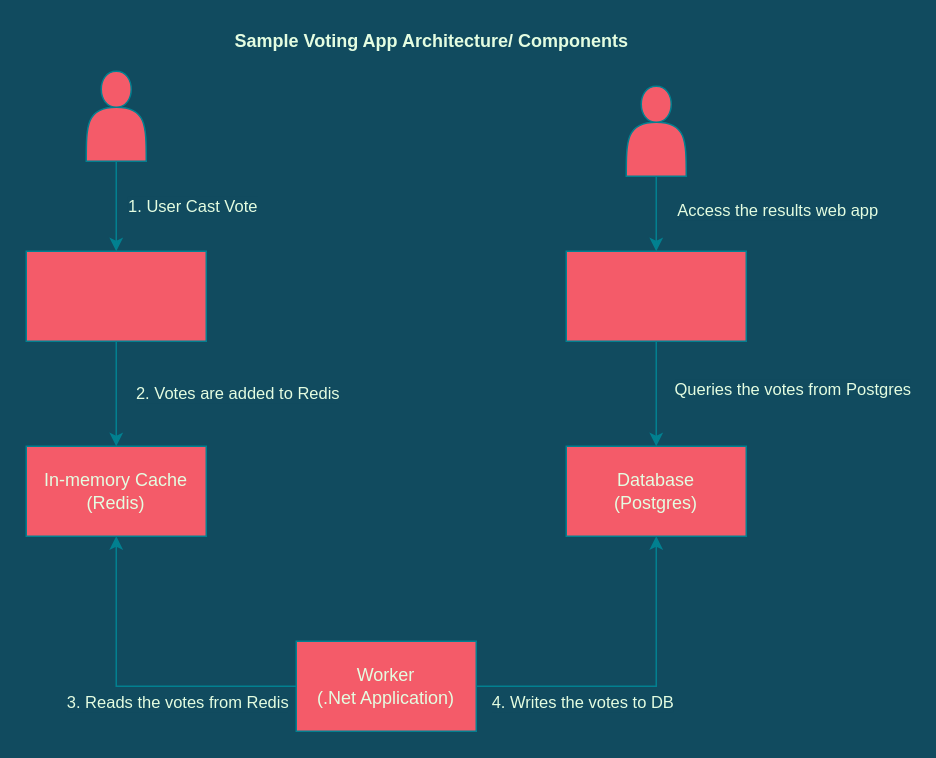
Image size: 936x758. Some labels were removed from this diagram. The shapes that lost their labels are listed below. From the top down, each one's box as (x1, y1, x2, y2) in pixels, then its label:
(25, 250, 206, 341): Voting Web Application (Python)
(565, 250, 746, 341): Result Web Application (Node JS)
